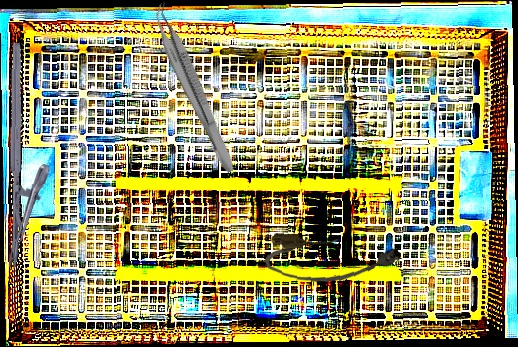Cannula: (263, 232, 403, 288)
Needle Holder: (7, 42, 52, 269)
Tissue Forceps: (144, 0, 246, 176)
